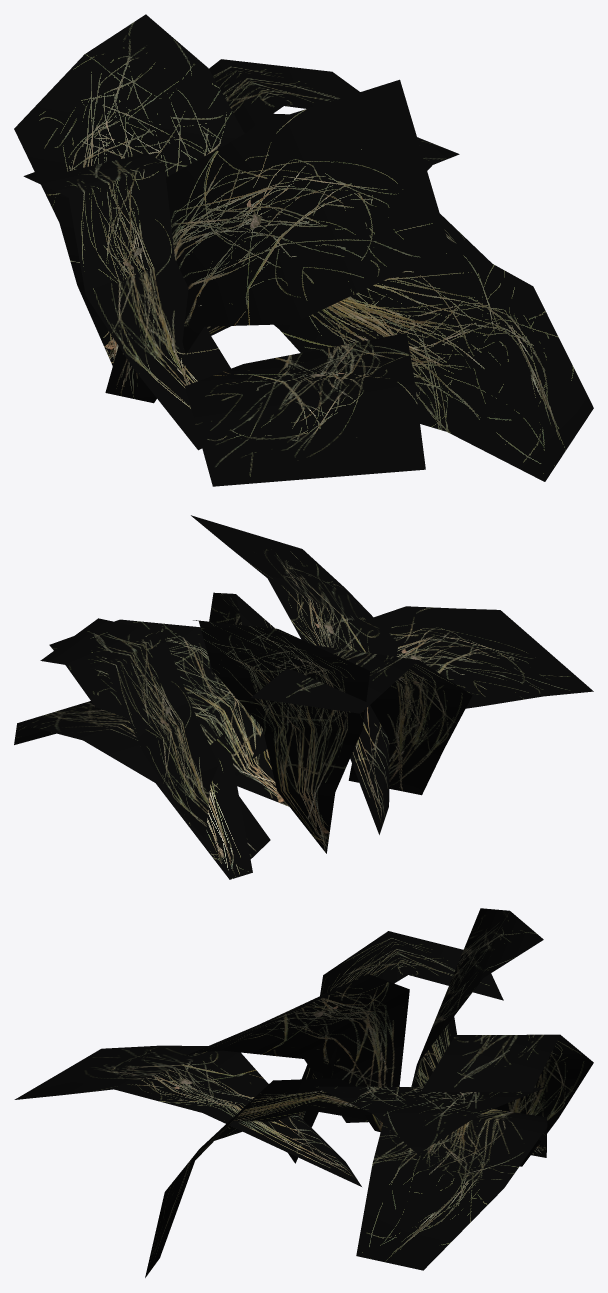
File: SM_Grass_01.fbx
3 views of the same model, one above another, from view 1: azimuth 30°, elevation 25°; view 2: azimuth 150°, elevation 25°; view 3: azimuth 270°, elevation 25° (orthographic). The views are drawn at different scales.
Parts seen in each view (by area): view 1: SM_Grass_01; view 2: SM_Grass_01; view 3: SM_Grass_01.
Part boxes in pixels (<box>): SM_Grass_01: <box>14,14,593,486</box>; SM_Grass_01: <box>14,515,593,879</box>; SM_Grass_01: <box>14,908,593,1277</box>.
Bounding box in the file's own units: 146 × 187 × 97.57.
1 material, 1 textured.
